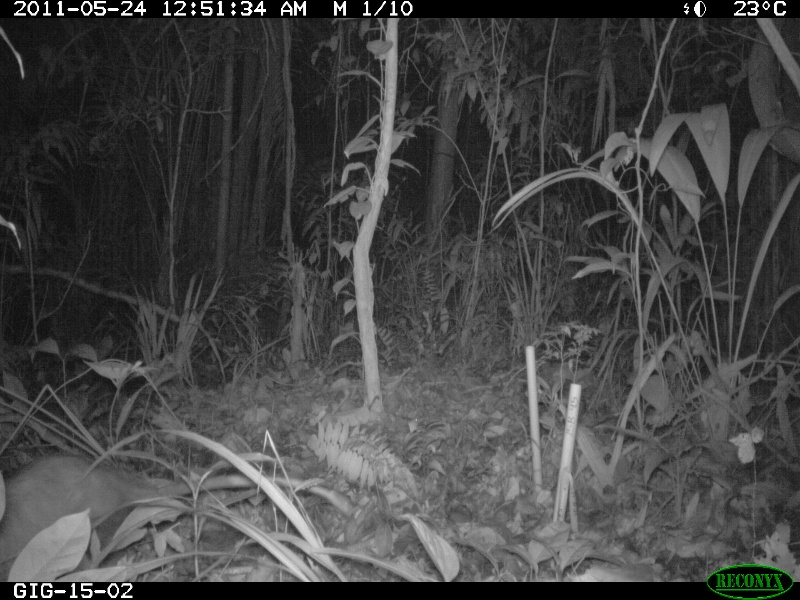opossum: (1, 442, 357, 580)
